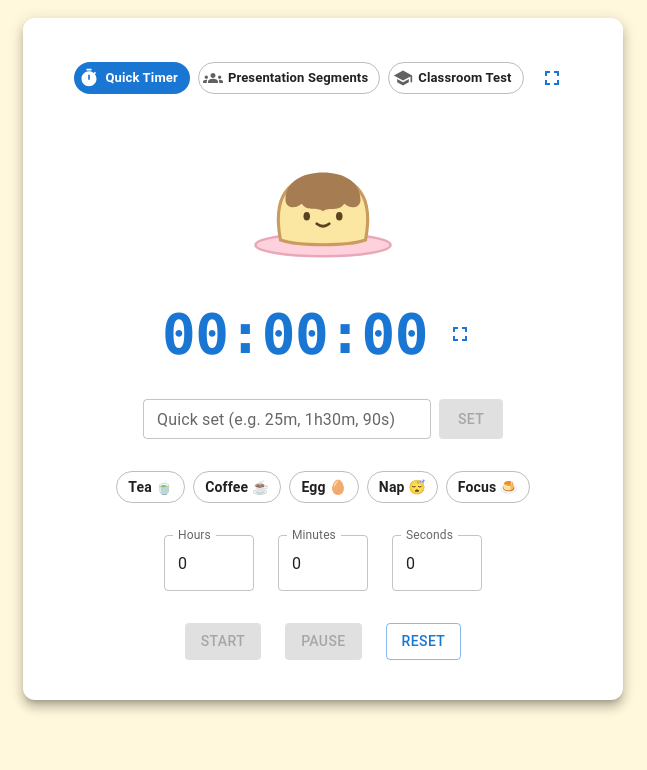
Test: Timer › counts down wall-clock time and celebrates on completion
This screenshot has width=647, height=770.
Replace the text in the number field labelled "Seconds" with "2" at (437, 563), box x1=392 y1=535 x2=482 y2=591
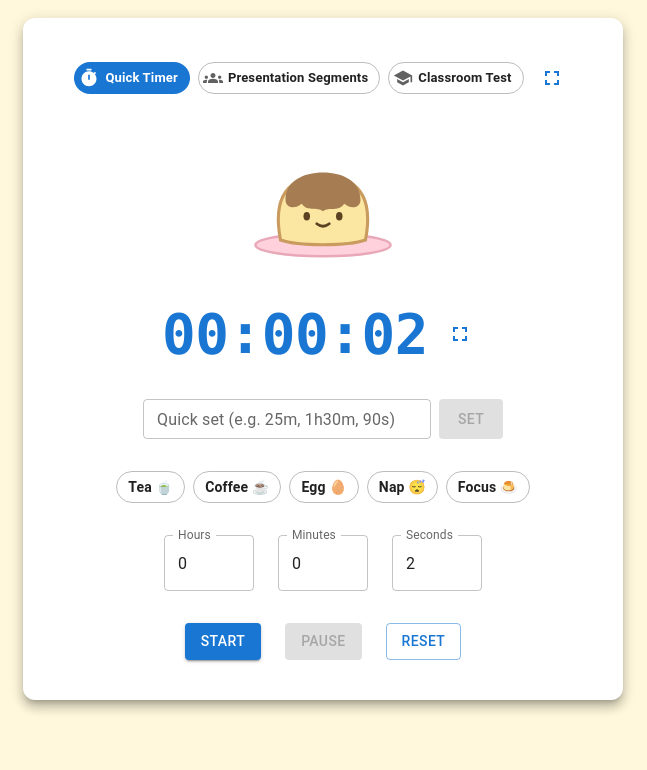
expect the heading "00:00:02" is shown: met, box x1=162 y1=300 x2=428 y2=367
Click the button "Start".
click(223, 641)  # box x1=185 y1=623 x2=261 y2=660
Wait 2000 ms
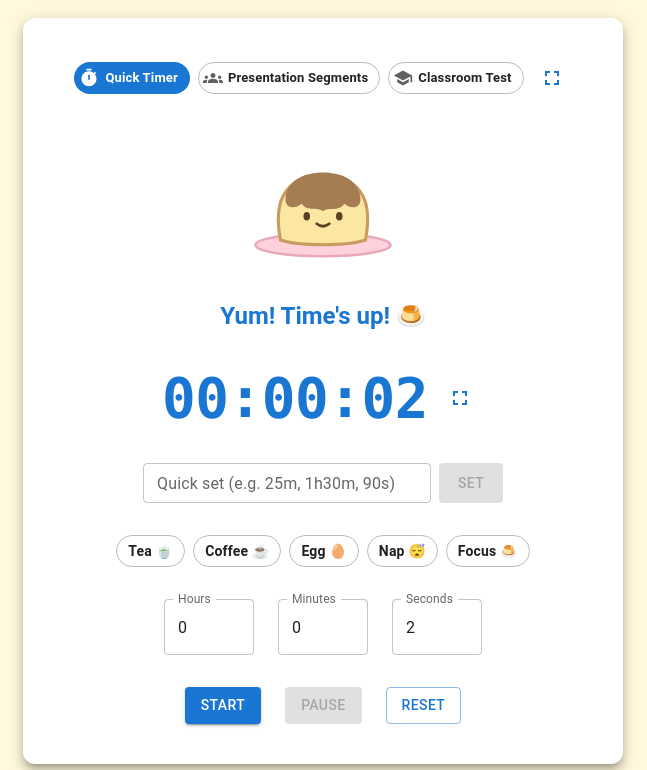
expect the heading "00:00:01" is shown: met, box x1=162 y1=364 x2=428 y2=431
expect the button "Start" is enabled: met, box x1=185 y1=687 x2=261 y2=724
expect the heading "Yum! Time's up! 🍮" is shown: met, box x1=220 y1=300 x2=426 y2=332
